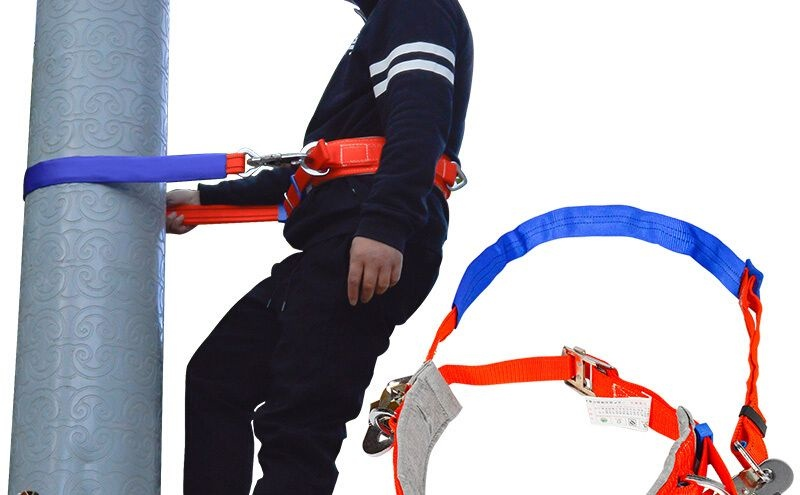safety belt: (457, 220, 761, 494), (37, 140, 453, 237)
